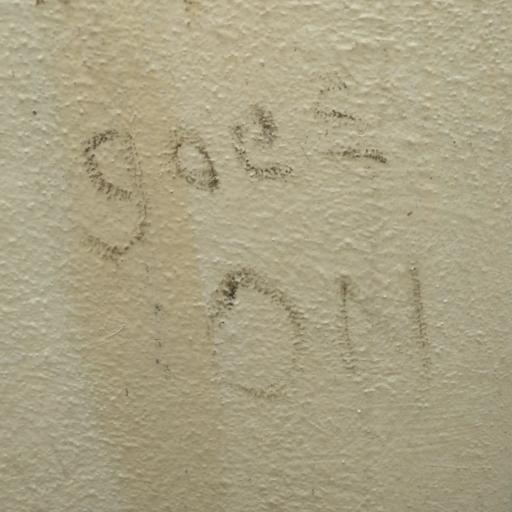stain: (51, 92, 481, 448)
